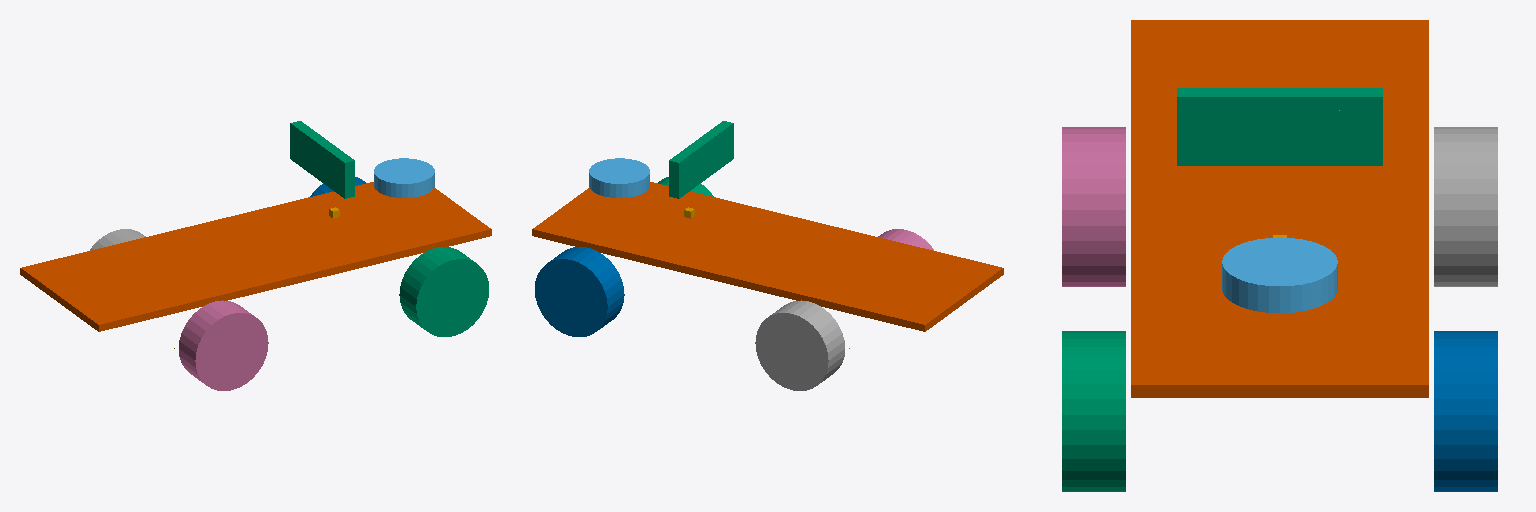
robot.urdf — car:
<?xml version="1.0"?>
<robot name="car">

  <link name="base_link">
    <visual>
      <geometry>
        <box size =".001 .001 .001"/>
      </geometry>
      <origin rpy="0 0 0" xyz="0 0 0"/>
    </visual>
  </link>

  <joint name="base_link_to_right_front_steering" type="revolute">
    <parent link="base_link"/>
    <child link="right_front_steering"/>
    <origin xyz="0.326 -0.125 0.054"/>
    <axis   xyz="0 0 1"/>
    <limit lower="-0.87" upper="0.87" effort="1000" velocity="1000"/>
  </joint>

  <link name="right_front_steering">
    <visual>
      <geometry>
        <box size =".001 .001 .001"/>
      </geometry>
      <origin rpy="0 0 0" xyz="0 0 0"/>
    </visual>
  </link>

  <joint name="right_front_steering_to_right_front_wheel" type="continuous">
    <parent link="right_front_steering"/>
    <child link="right_front_wheel"/>
    <origin xyz="0.0 0.0 0.0"/>
    <axis   xyz="0 1 0"/>
  </joint>

  <link name="right_front_wheel">
    <visual>
      <geometry>
        <cylinder length ="0.043" radius="0.054"/>
      </geometry>
      <origin rpy="1.57075 0 0" xyz="0 0 0"/>
    </visual>
  </link>

  <joint name="base_link_to_left_front_steering" type="revolute">
    <parent link="base_link"/>
    <child link="left_front_steering"/>
    <origin xyz="0.326 0.125 0.054"/>
    <axis   xyz="0 0 1"/>
    <limit lower="-0.87" upper="0.87" effort="1000" velocity="1000"/>
  </joint>

  <link name="left_front_steering">
    <visual>
      <geometry>
        <box size =".001 .001 .001"/>
      </geometry>
      <origin rpy="0 0 0" xyz="0 0 0"/>
    </visual>
  </link>

  <joint name="left_front_steering_to_left_front_wheel" type="continuous">
    <parent link="left_front_steering"/>
    <child link="left_front_wheel"/>
    <origin xyz="0.0 0.0 0.0"/>
    <axis   xyz="0 1 0"/>
  </joint>

  <link name="left_front_wheel">
    <visual>
      <geometry>
        <cylinder length ="0.043" radius="0.054"/>
      </geometry>
      <origin rpy="1.57075 0 0" xyz="0 0 0"/>
    </visual>
  </link>

  <joint name="base_link_to_body" type="revolute">
    <parent link="base_link"/>
    <child link="body"/>
    <origin xyz="0 0 0.054"/>
    <axis   xyz="0 1 0"/>
    <limit lower="-0.065" upper="0.065" effort="1000" velocity="1000"/>
  </joint>

  <link name="body">
    <visual>
      <geometry>
        <box size ="0.58 0.2 0.01"/>
      </geometry>
      <origin rpy="0 0 0" xyz="0.12 0 0.054"/>
    </visual>
  </link>

  <joint name="body_to_right_rear_wheel" type="continuous">
    <parent link="body"/>
    <child link="right_rear_wheel"/>
    <origin xyz="0 -0.125 0.0"/>
    <axis   xyz="0 1 0"/>
  </joint>

  <link name="right_rear_wheel">
    <visual>
      <geometry>
        <cylinder length ="0.043" radius="0.054"/>
      </geometry>
      <origin rpy="1.57075 0 0" xyz="0 0 0"/>
    </visual>
  </link>

  <joint name="body_to_left_rear_wheel" type="continuous">
    <parent link="body"/>
    <child link="left_rear_wheel"/>
    <origin xyz="0 0.125 0.0"/>
    <axis   xyz="0 1 0"/>
  </joint>

  <link name="left_rear_wheel">
    <visual>
      <geometry>
        <cylinder length ="0.043" radius="0.054"/>
      </geometry>
      <origin rpy="1.57075 0 0" xyz="0 0 0"/>
    </visual>
  </link>

  <joint name="body_to_imu" type="fixed">
    <parent link="body"/>
    <child link="imu"/>
    <origin xyz="0.236 0 0.082"/>
  </joint>

  <link name="imu">
    <visual>
      <geometry>
        <box size =".01 .01 .01"/>
      </geometry>
      <origin rpy="0 0 0" xyz="0 0 0"/>
    </visual>
  </link>

  <joint name="body_to_lidar" type="fixed">
    <parent link="body"/>
    <child link="lidar"/>
    <origin xyz="0.339 0 0.107" rpy="0 0 3.1415926"/>
  </joint>

  <link name="lidar">
    <visual>
      <geometry>
        <cylinder length ="0.020" radius="0.039"/>
      </geometry>
      <origin rpy="0 0 0" xyz="0 0 0"/>
    </visual>
  </link>

  <joint name="body_to_realsense" type="fixed">
    <parent link="body"/>
    <child link="realsense"/>
    <origin xyz="0.226 -0.044 0.177"/>
  </joint>
 <!--   <origin xyz="0.226 -0.044 0.177"/>-->
  <link name="realsense">
    <visual>
      <geometry>
        <box size ="0.015 0.139 0.051"/>
      </geometry>
      <origin rpy="0 0 0" xyz="-0.0075 0.044 -0.016"/>
    </visual>
  </link>

  <joint name="body_to_camera_depth_optical_frame" type="revolute">
    <parent link="body"/>
    <child link="camera_depth_optical_frame"/>
    <origin xyz="0.226 0.04 0.177" rpy="-1.57079 0 -1.57079"/>
    <axis   xyz="0 0 1"/>
    <limit lower="-0.001" upper="0.001" effort="1000" velocity="1000"/>
  </joint>

  <!-- rpy="-1.57079 1.57079 0" -->

  <link name="camera_depth_optical_frame">
    <visual>
      <geometry>
        <box size =".001 .001 .001"/>
      </geometry>
      <origin rpy="0 0 0" xyz="0 0 0"/>
    </visual>
  </link>

</robot>

--- What the picture shows (computed from the rendered views, not written in the file) ---
Views: 3 orthographic renders of the robot side by side, from view 1: azimuth 30°, elevation 25°; view 2: azimuth 150°, elevation 25°; view 3: azimuth 270°, elevation 25°.
Robot: car — 12 links, 11 joints (4 revolute, 4 continuous, 3 fixed); root link base_link; default pose: all joints at 0.
Visible links, largest first — view 1: body, right_rear_wheel, right_front_wheel, realsense, lidar, left_rear_wheel; view 2: body, left_rear_wheel, left_front_wheel, realsense, lidar, right_rear_wheel; view 3: body, realsense, right_front_wheel, left_front_wheel, right_rear_wheel, left_rear_wheel, lidar.
Boxes of the visible links, x1,y1,x2,y2 form: body: (20,182,491,331); right_rear_wheel: (179,300,268,390); right_front_wheel: (399,247,488,336); realsense: (290,121,354,198); lidar: (374,158,434,197); left_rear_wheel: (90,229,145,250); body: (532,182,1003,331); left_rear_wheel: (755,300,844,390); left_front_wheel: (535,247,624,336); realsense: (669,121,733,198); lidar: (589,158,649,197); right_rear_wheel: (878,229,933,250); body: (1131,20,1428,397); realsense: (1177,88,1382,165); right_front_wheel: (1062,331,1125,491); left_front_wheel: (1434,331,1497,491); right_rear_wheel: (1062,127,1125,286); left_rear_wheel: (1434,127,1497,286); lidar: (1222,238,1337,312).
Size in the robot's own frame: 0.58 by 0.293 by 0.241 metres.
Geometry: primitives only (box / cylinder / sphere), no mesh files.